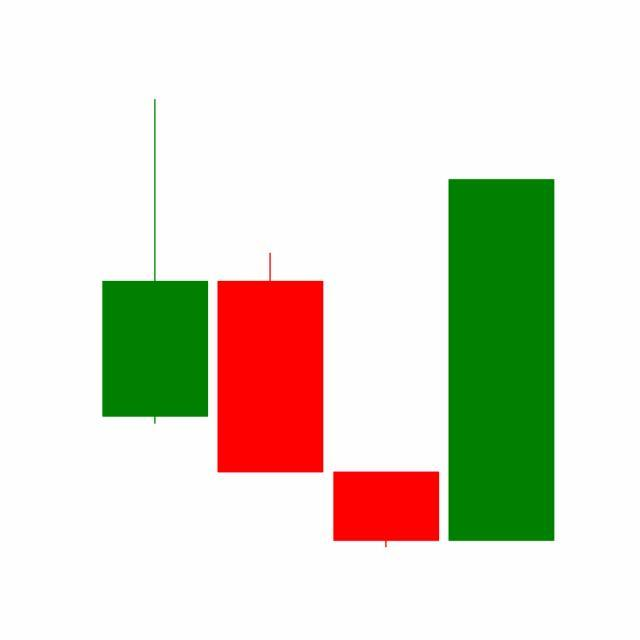Marubozu: (444, 175, 560, 544)
